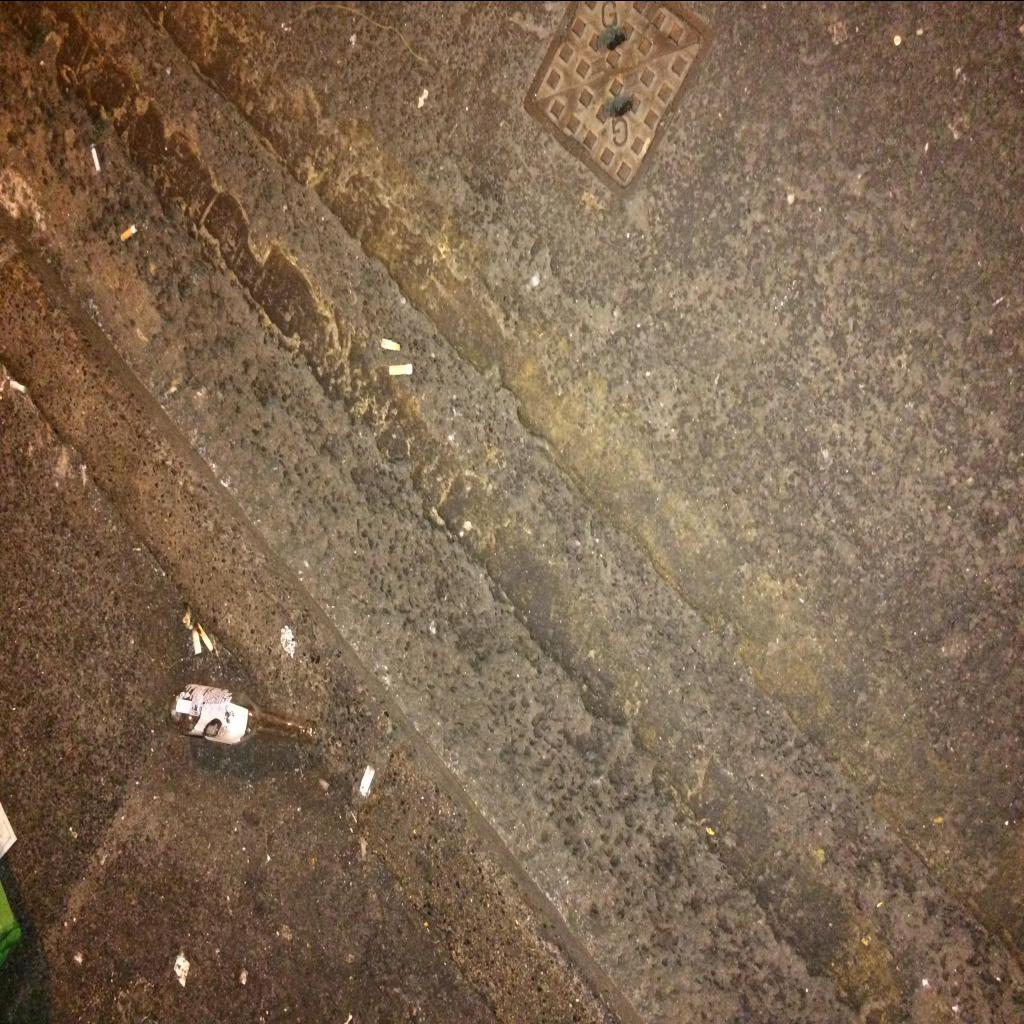Cigarette: (194, 620, 214, 652), (360, 764, 376, 796), (390, 363, 413, 375), (381, 338, 401, 350), (184, 602, 192, 630), (194, 626, 202, 652), (10, 380, 26, 392)
Glass bottle: (168, 681, 317, 744)
